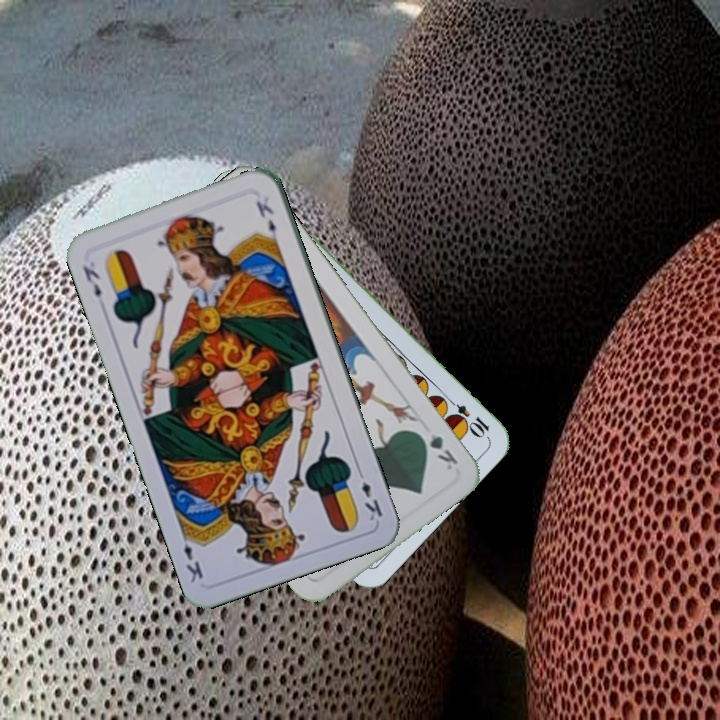E10: (441, 393, 492, 439)
EK: (353, 465, 385, 524), (78, 261, 104, 301)
GK: (413, 427, 461, 473)
